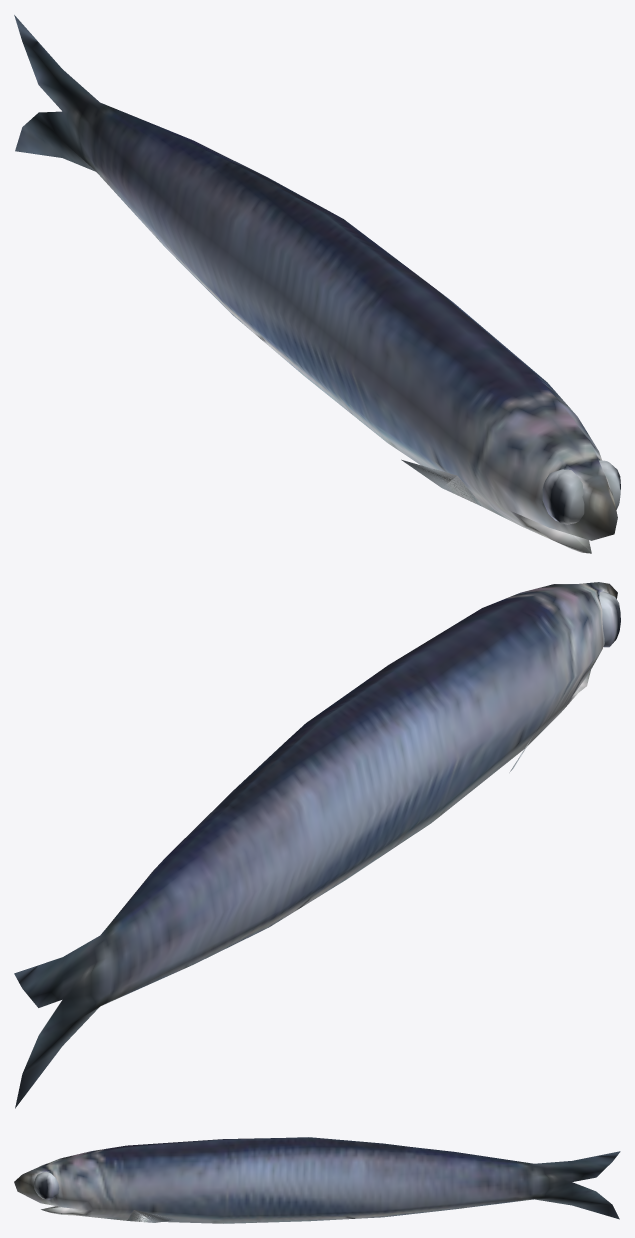
Rendered from anchovy.obj.
3 views of the same model, one above another, from view 1: azimuth 30°, elevation 25°; view 2: azimuth 150°, elevation 25°; view 3: azimuth 270°, elevation 25° (orthographic). The views are drawn at different scales.
Visible parts, largest first — view 1: Plane; view 2: Plane; view 3: Plane.
Boxes of the visible parts, <box> form: Plane: <box>14,15,620,553</box>; Plane: <box>14,582,620,1108</box>; Plane: <box>14,1137,620,1223</box>.
Bounding box in the file's own units: 0.9778 × 1.48 × 9.44.
